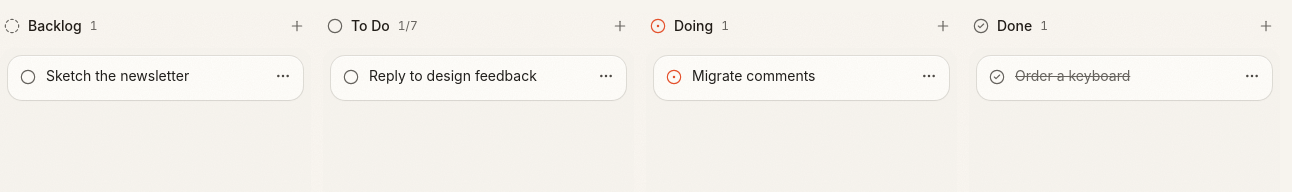
Test: the + in a column's header › closes on Escape, and when focus leaves an empty field
Later steps or results of the test are not shown.
Click the button named "Add to Doing" at (943, 26), box 929,12 -> 957,40
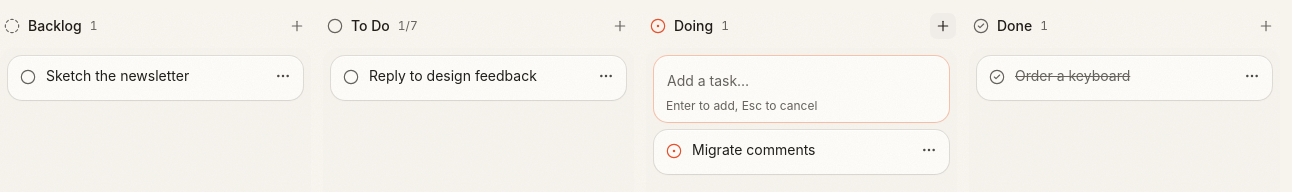
Press Escape in the field with placeholder "Add a task…", box 666,64 -> 937,96
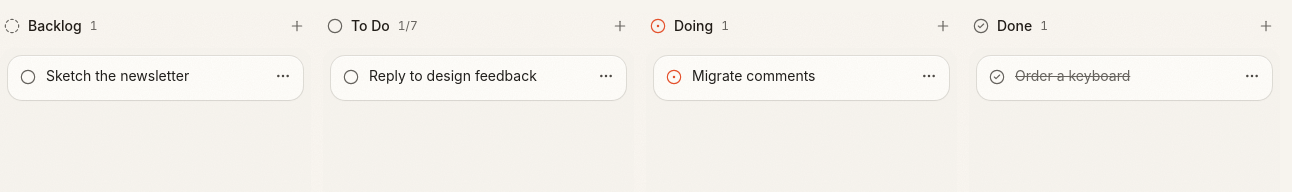
Check: the element with test id "planner-composer" is gone
